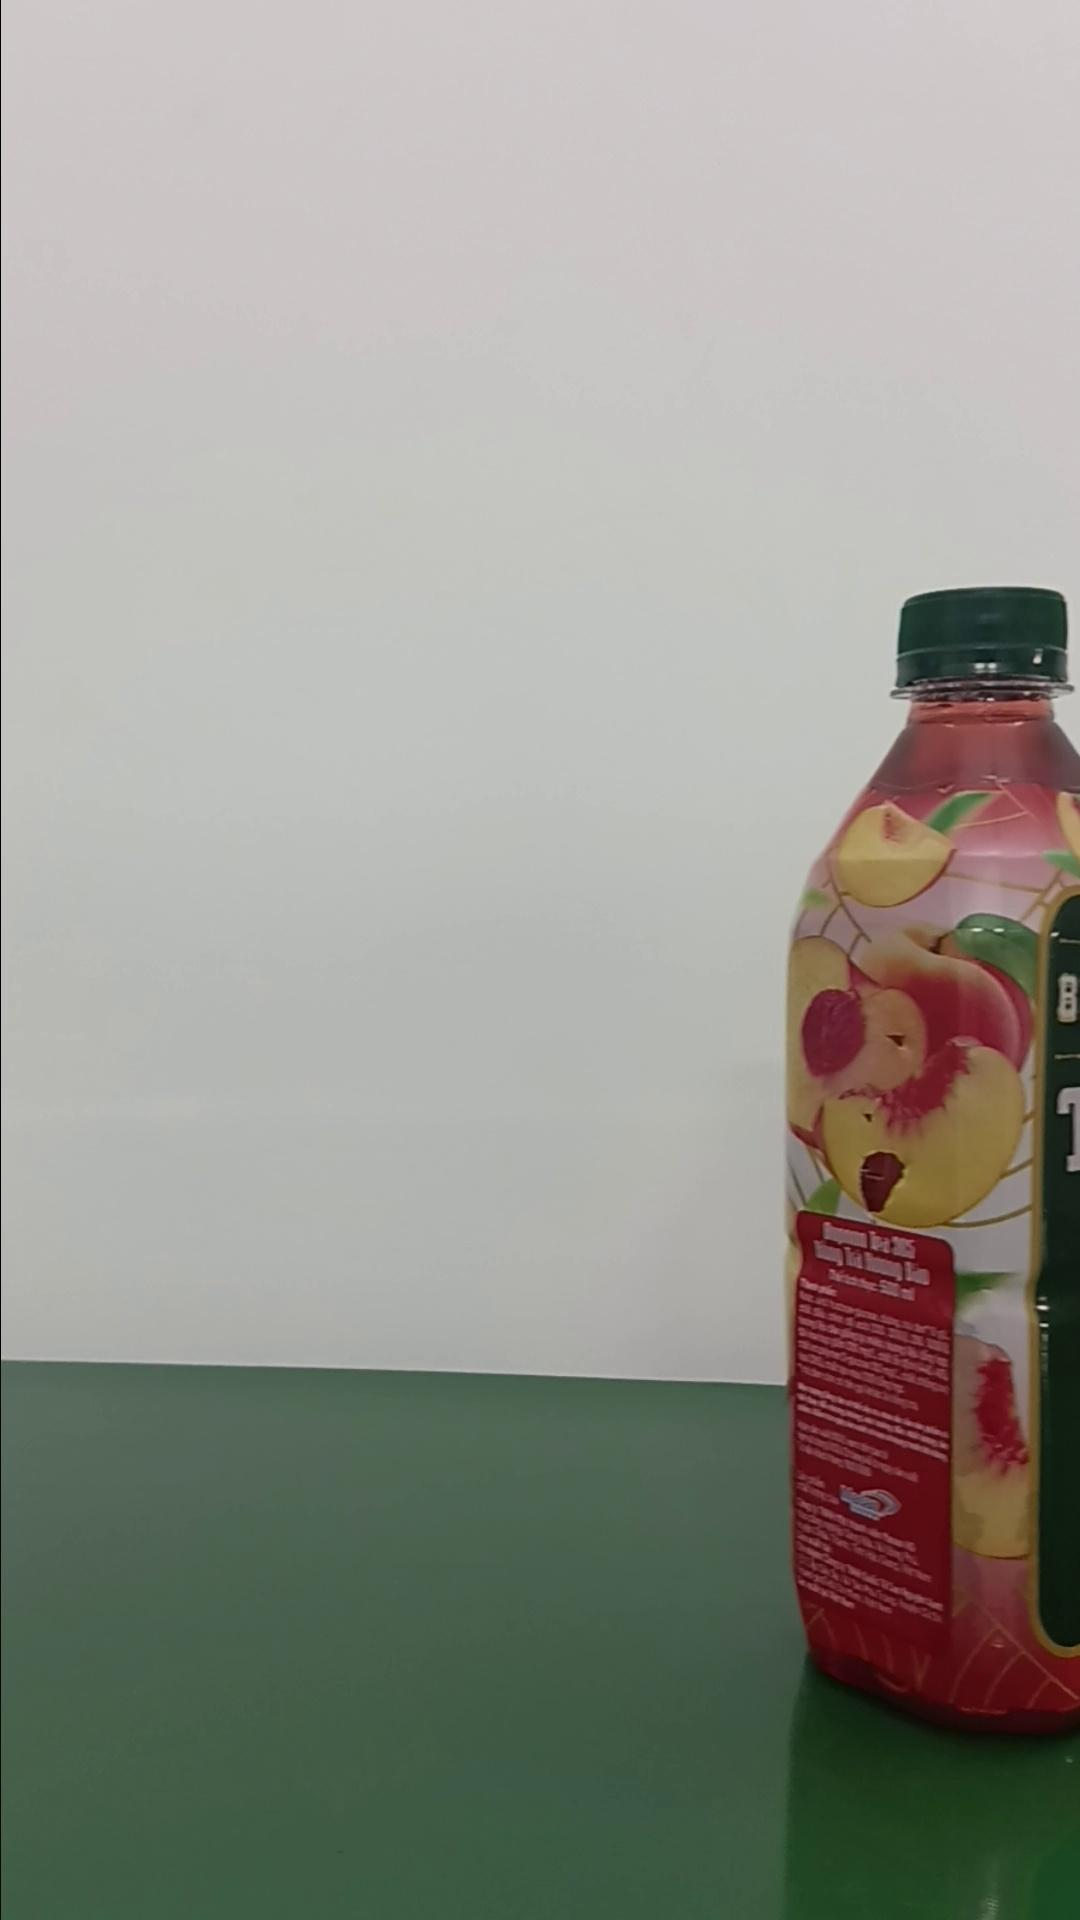loi rach va lap chai: (774, 580, 1080, 1749)
